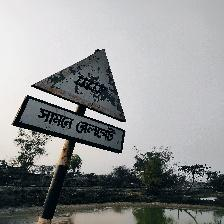Rail-crossing: (11, 49, 127, 154)
